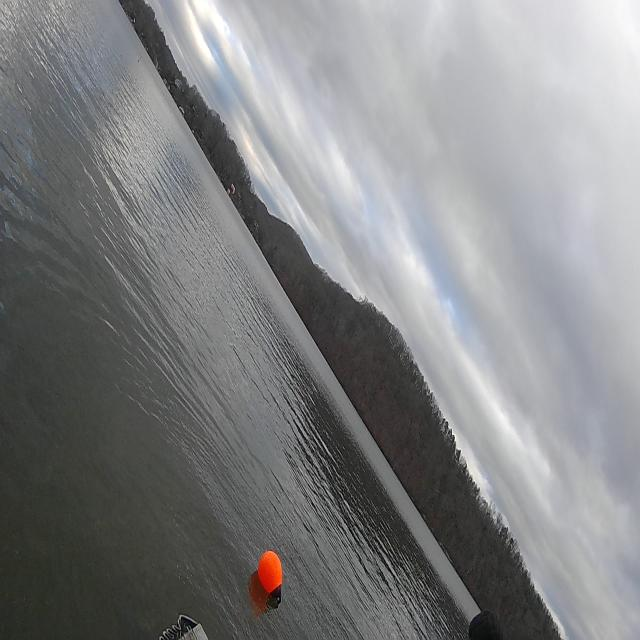Buoy: (255, 548, 284, 598)
